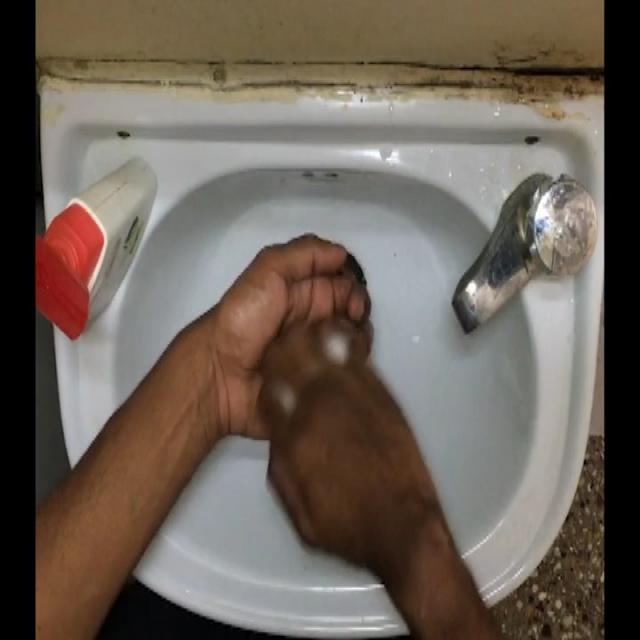step_4: (222, 215, 392, 558)
